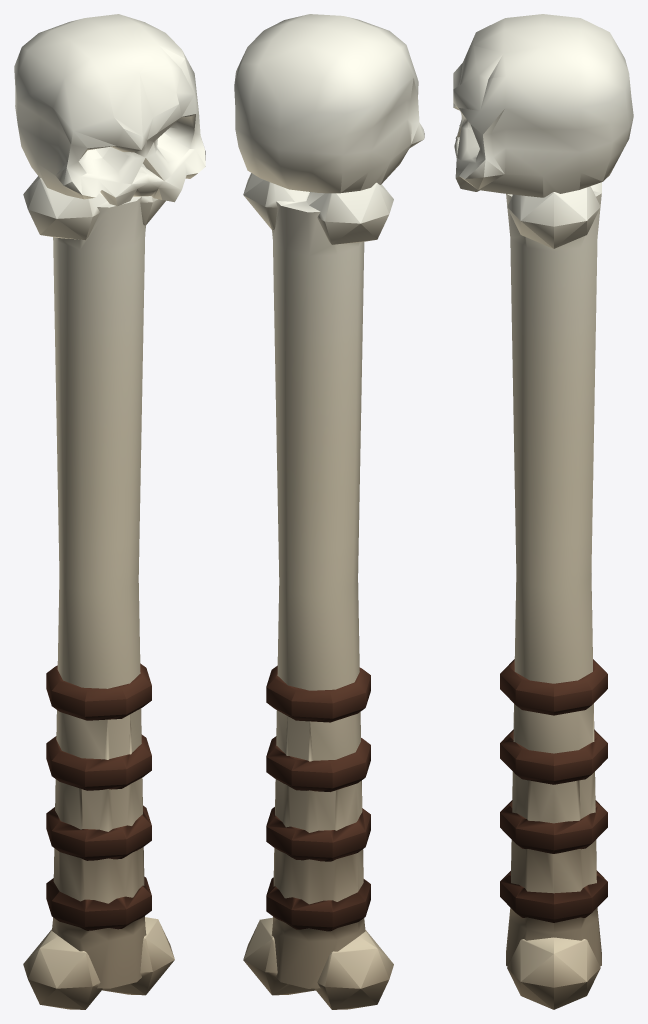
File: wand_bone.glb
3 views of the same model, side by side, from view 1: azimuth 30°, elevation 25°; view 2: azimuth 150°, elevation 25°; view 3: azimuth 270°, elevation 25° (orthographic).
Visible parts, largest first — view 1: Item; view 2: Item; view 3: Item.
Boxes of the visible parts, x1=… form: Item: x1=14, y1=14, x2=205, y2=1009; Item: x1=234, y1=14, x2=424, y2=1009; Item: x1=453, y1=14, x2=633, y2=1009.
Bounding box in the file's own units: 0.16 × 1.02 × 0.1733.
Materials: 1 (1 with a texture image).
